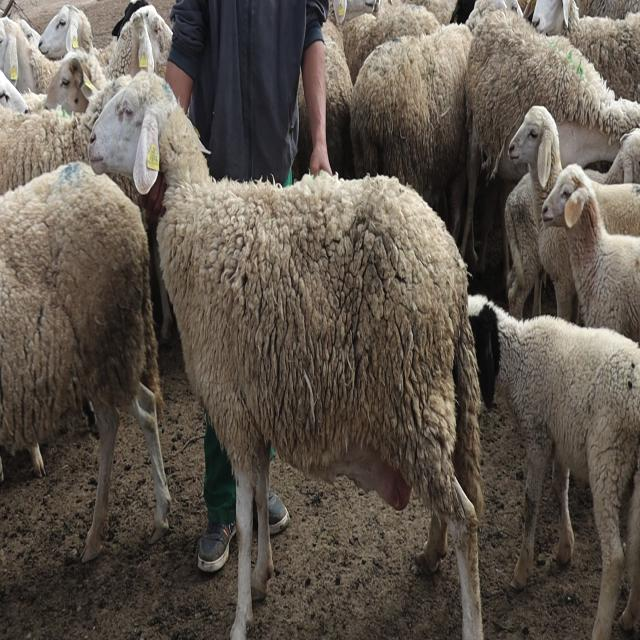Score_2: (88, 71, 483, 639)
